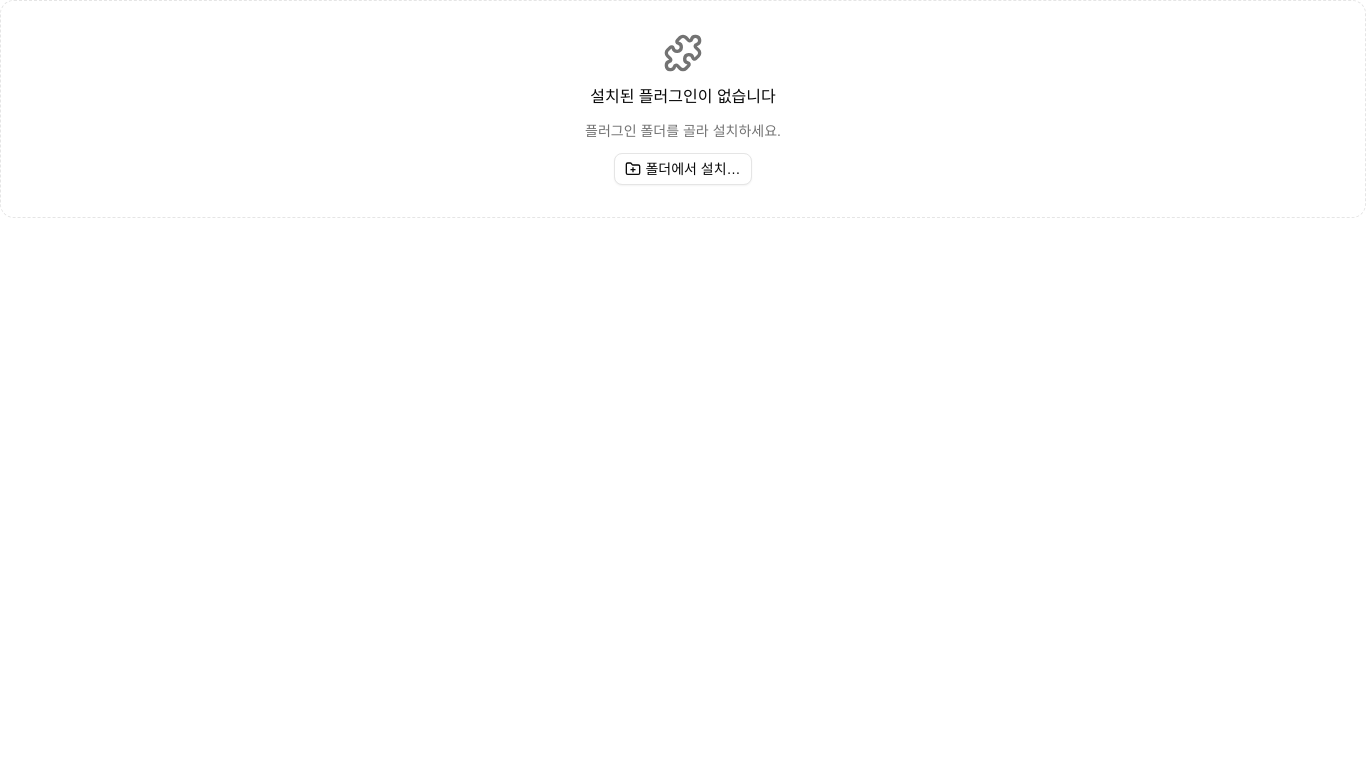
Scenario: settings > plugins › T-ui-plugin-03b [External] install failure stays in the dialog as an inline alert (toast is secondary) and can be retried
Click the button "폴더에서 설치…" at (683, 169), box [614,153,752,185]
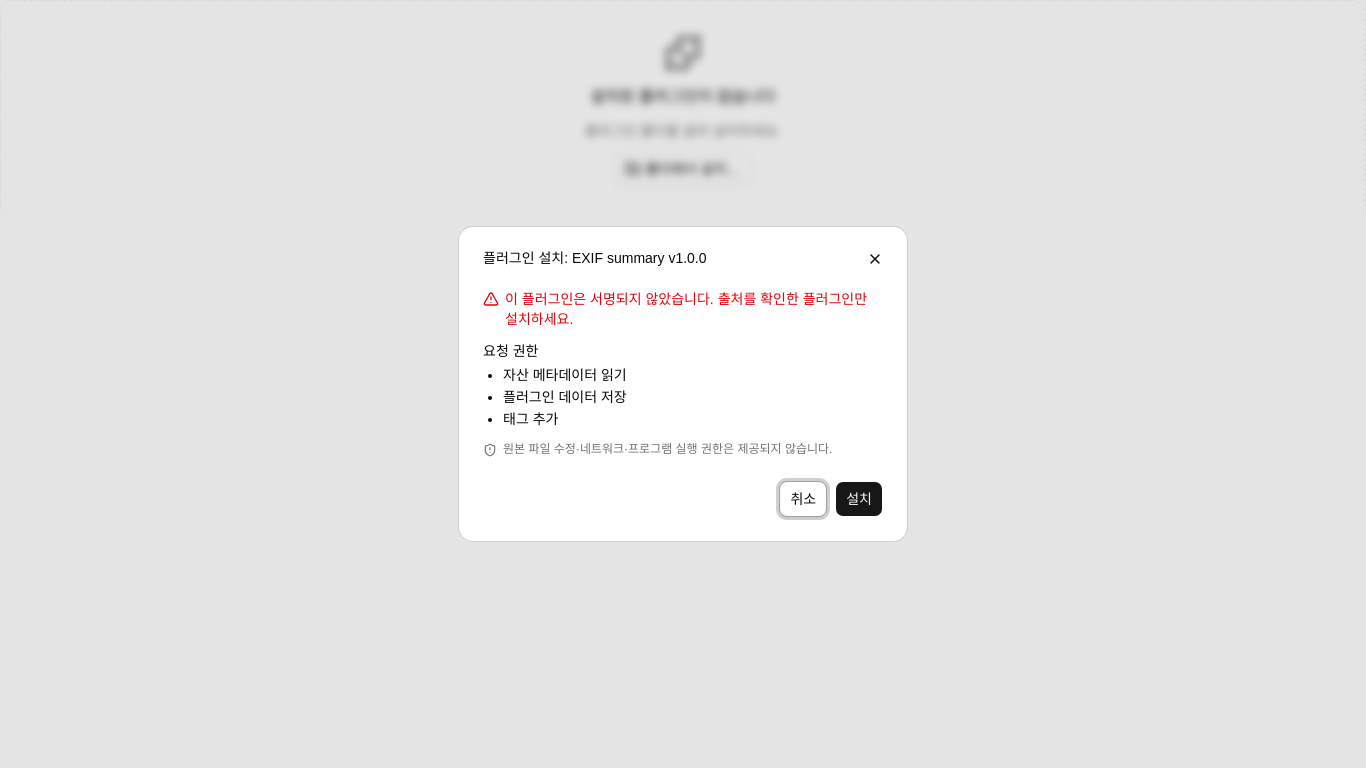
Click the button "설치" at (859, 499), box [835,481,883,517]
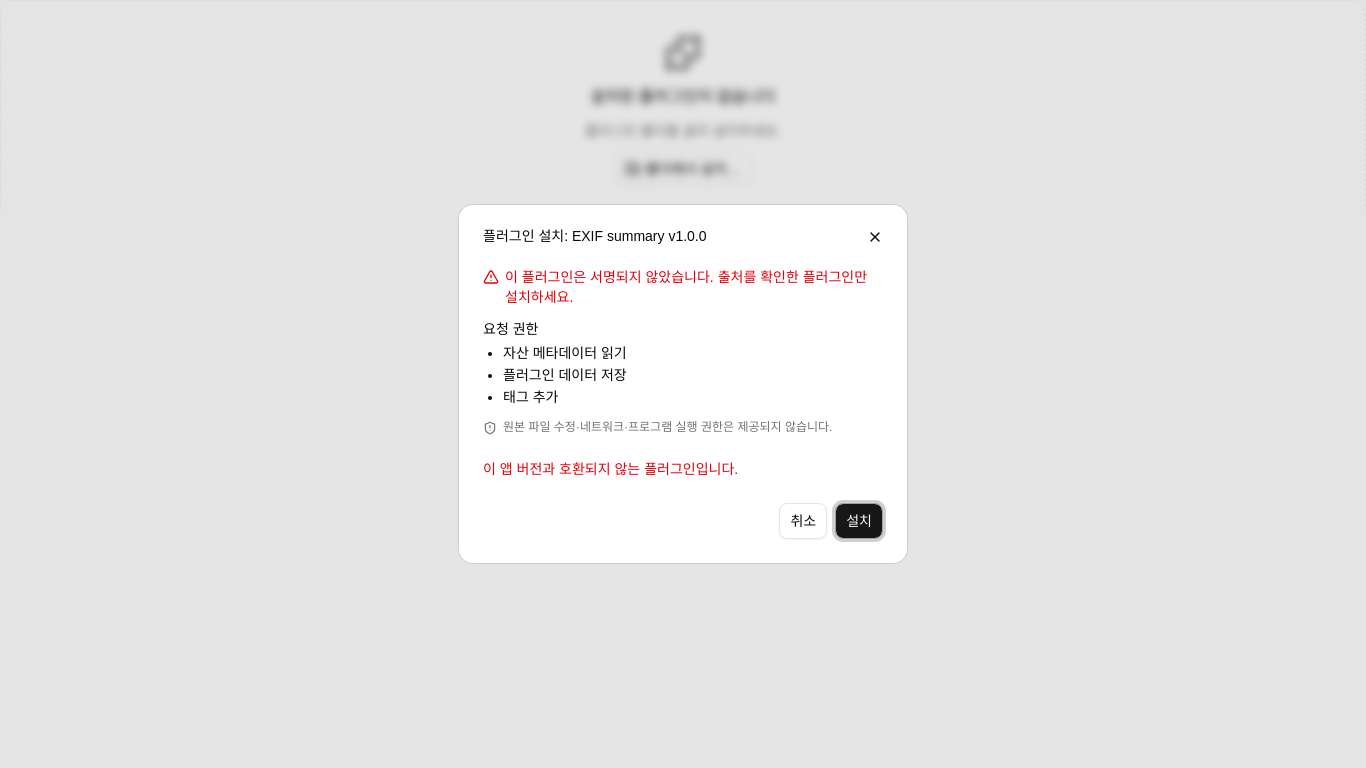
expect the dialog is shown: met, box [459,205,907,563]
expect the button "설치" is enabled: met, box [835,503,883,539]
expect the message reads "이 앱 버전과 호환되지 않는 플러그인입니다.": met, box [483,461,738,477]
